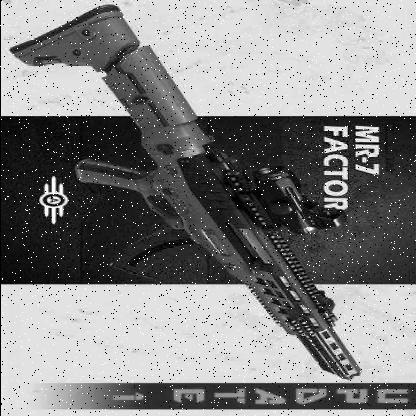rifle: (1, 10, 371, 385)
